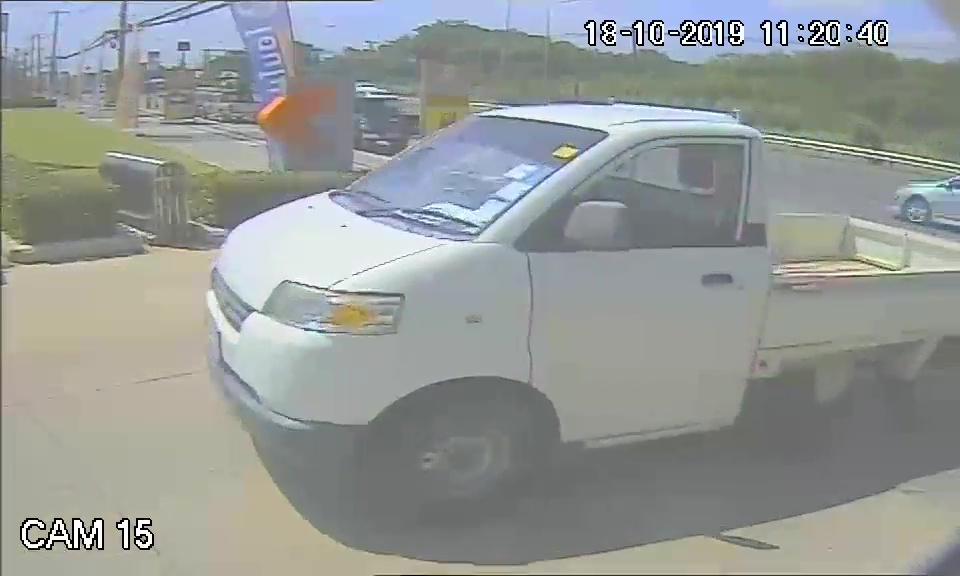pickup: (204, 103, 960, 508)
